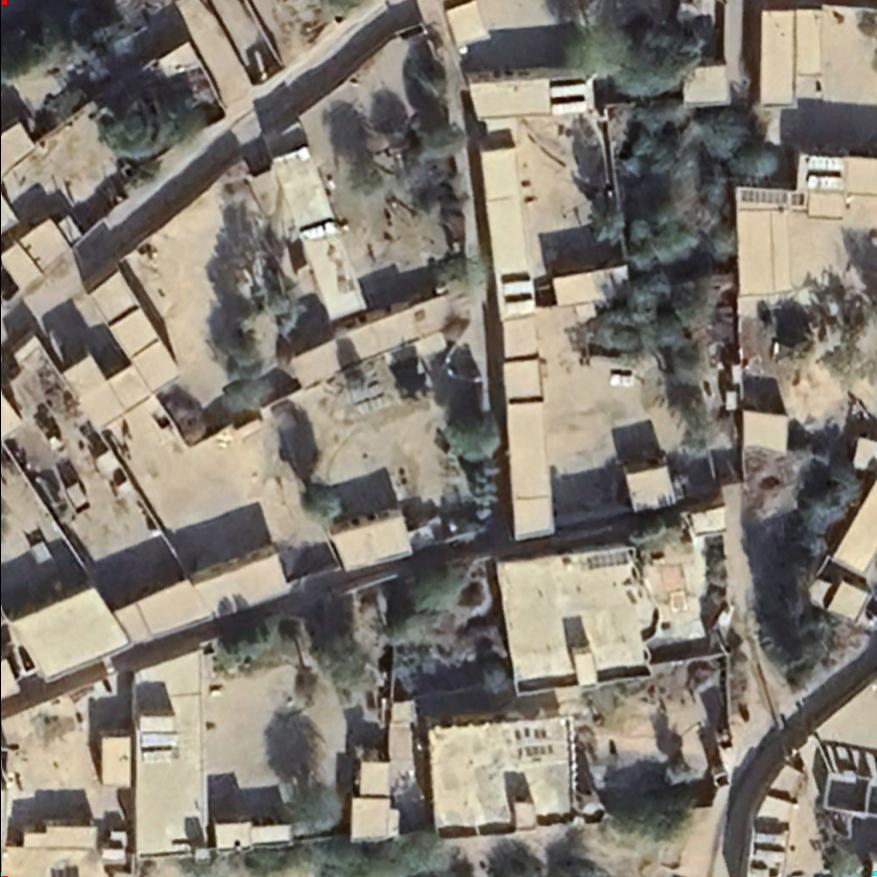Solarpanel: (799, 151, 851, 195), (544, 75, 591, 122), (737, 183, 809, 208), (134, 729, 178, 767), (293, 214, 340, 244), (581, 548, 635, 573), (512, 741, 564, 762), (512, 725, 549, 743)
